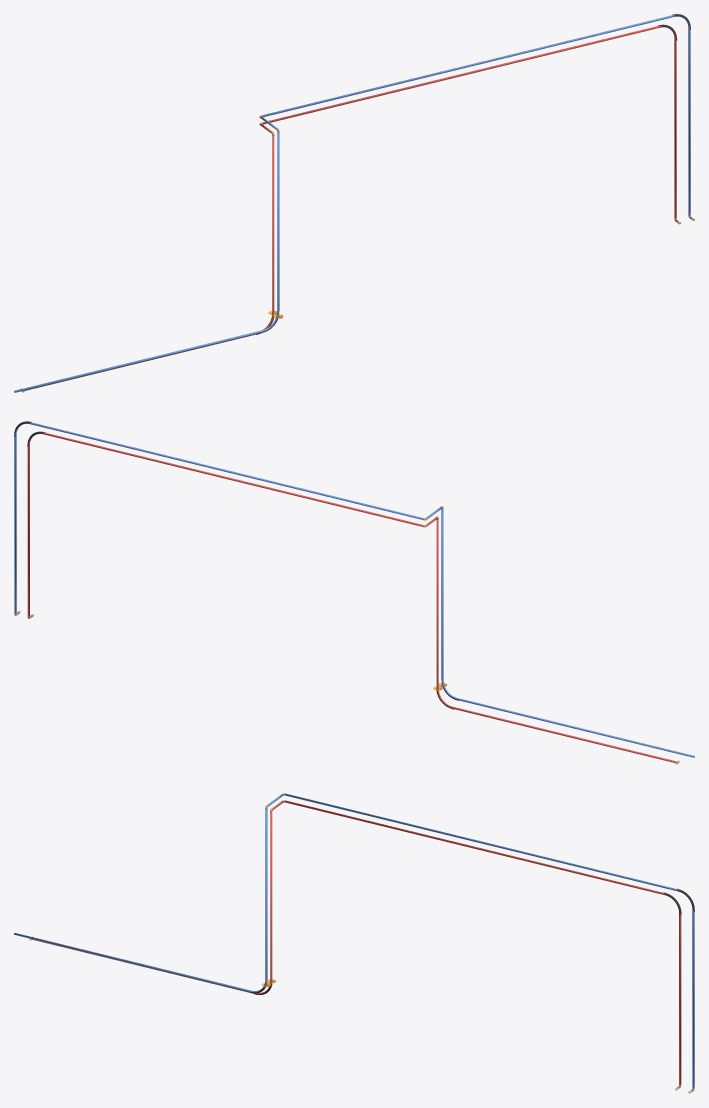
Rendered from pipes_supply__water_heater-garage_electric_tankless_and_plumbing-pex.glb.
The picture shows the model from 3 angles, top to bottom: view 1: azimuth 30°, elevation 25°; view 2: azimuth 150°, elevation 25°; view 3: azimuth 330°, elevation 25°; orthographic projection. The views are drawn at different scales.
Parts seen in each view (by area): view 1: pipe_supply_cold_wh_etankless__pex, pipe_supply_hot_wh_etankless__pex; view 2: pipe_supply_cold_wh_etankless__pex, pipe_supply_hot_wh_etankless__pex; view 3: pipe_supply_cold_wh_etankless__pex, pipe_supply_hot_wh_etankless__pex.
Part boxes in pixels (x1,y1,x2,y2): pipe_supply_cold_wh_etankless__pex: [14, 15, 691, 392]; pipe_supply_hot_wh_etankless__pex: [25, 26, 677, 390]; pipe_supply_cold_wh_etankless__pex: [14, 422, 694, 757]; pipe_supply_hot_wh_etankless__pex: [27, 432, 675, 762]; pipe_supply_cold_wh_etankless__pex: [14, 793, 694, 1091]; pipe_supply_hot_wh_etankless__pex: [32, 800, 681, 1088].
Size of the model in its own units: 7.99 by 2.28 by 0.4281.
